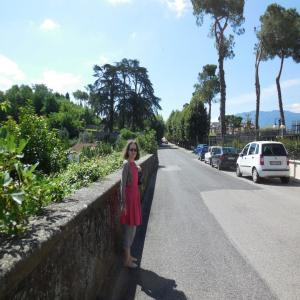Vehicle-registration-plate: (271, 161, 283, 166), (229, 158, 236, 160)
